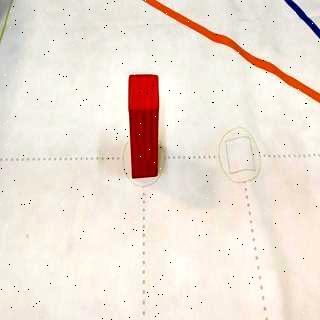redbox: (129, 74, 159, 177)
